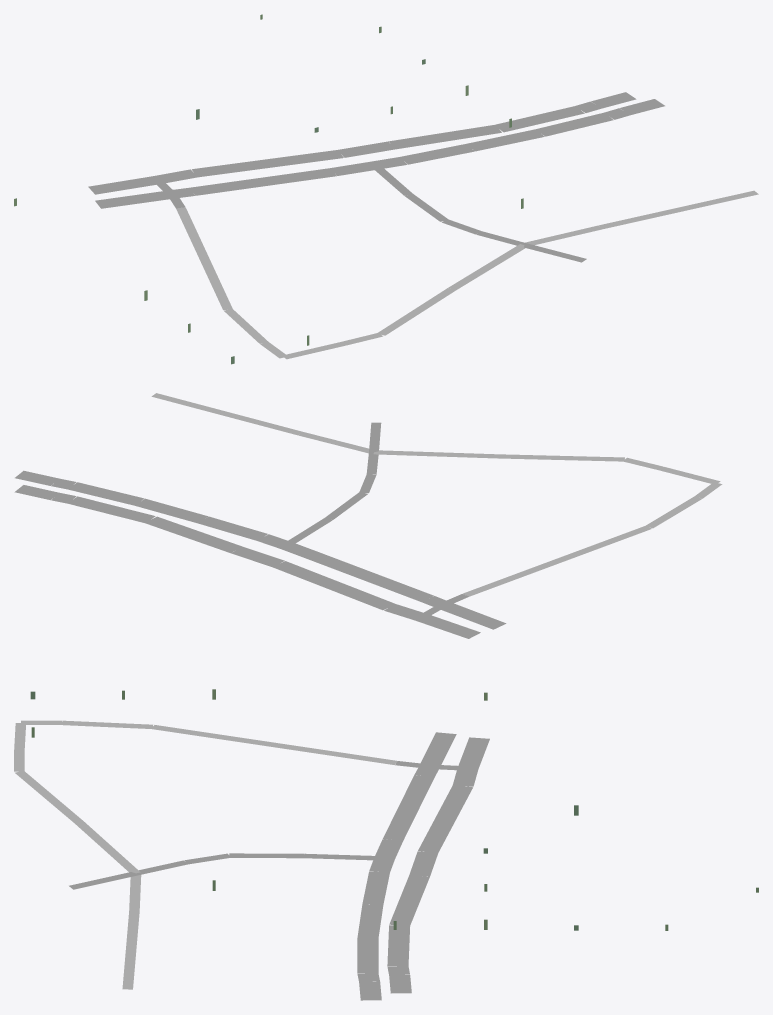
3 renders of one model, top to bottom at view 1: azimuth 30°, elevation 25°; view 2: azimuth 150°, elevation 25°; view 3: azimuth 270°, elevation 25°, orthographic. The views are drawn at different scales.
Bounding box in the file's own units: 472 × 9.14 × 494.
